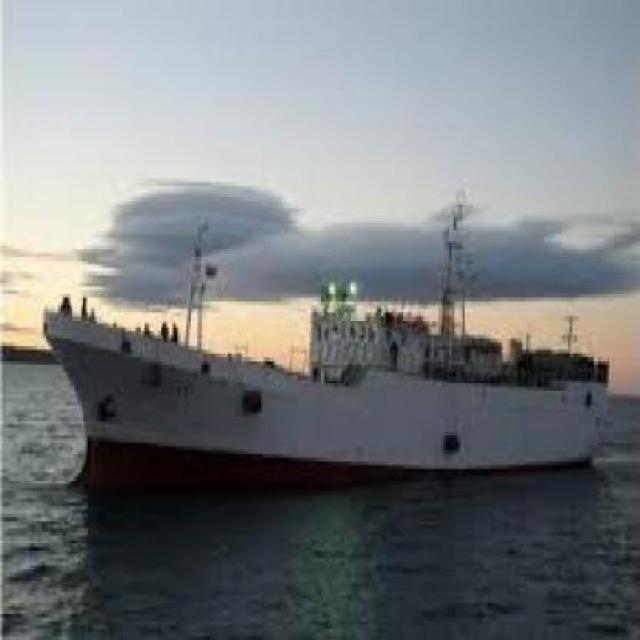fish-b: (39, 176, 617, 493)
